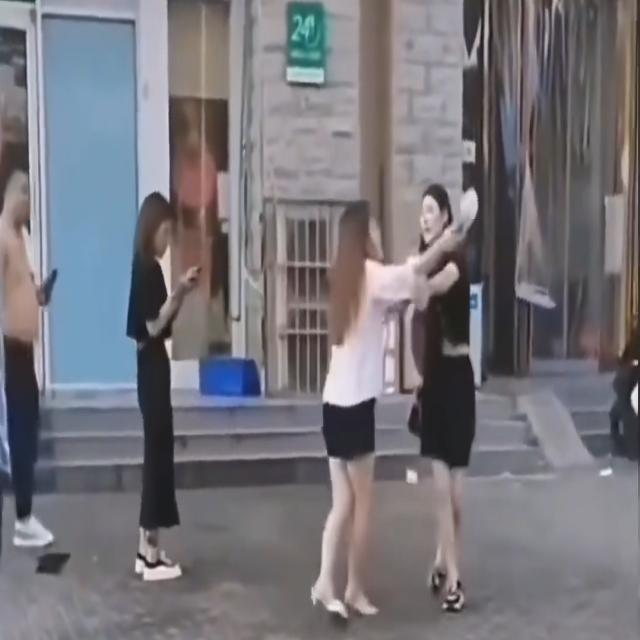fight: (337, 188, 482, 326)
nofight: (113, 188, 210, 592), (1, 157, 73, 564)
